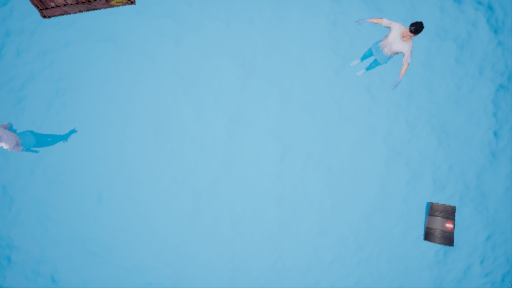person: (344, 11, 428, 86)
